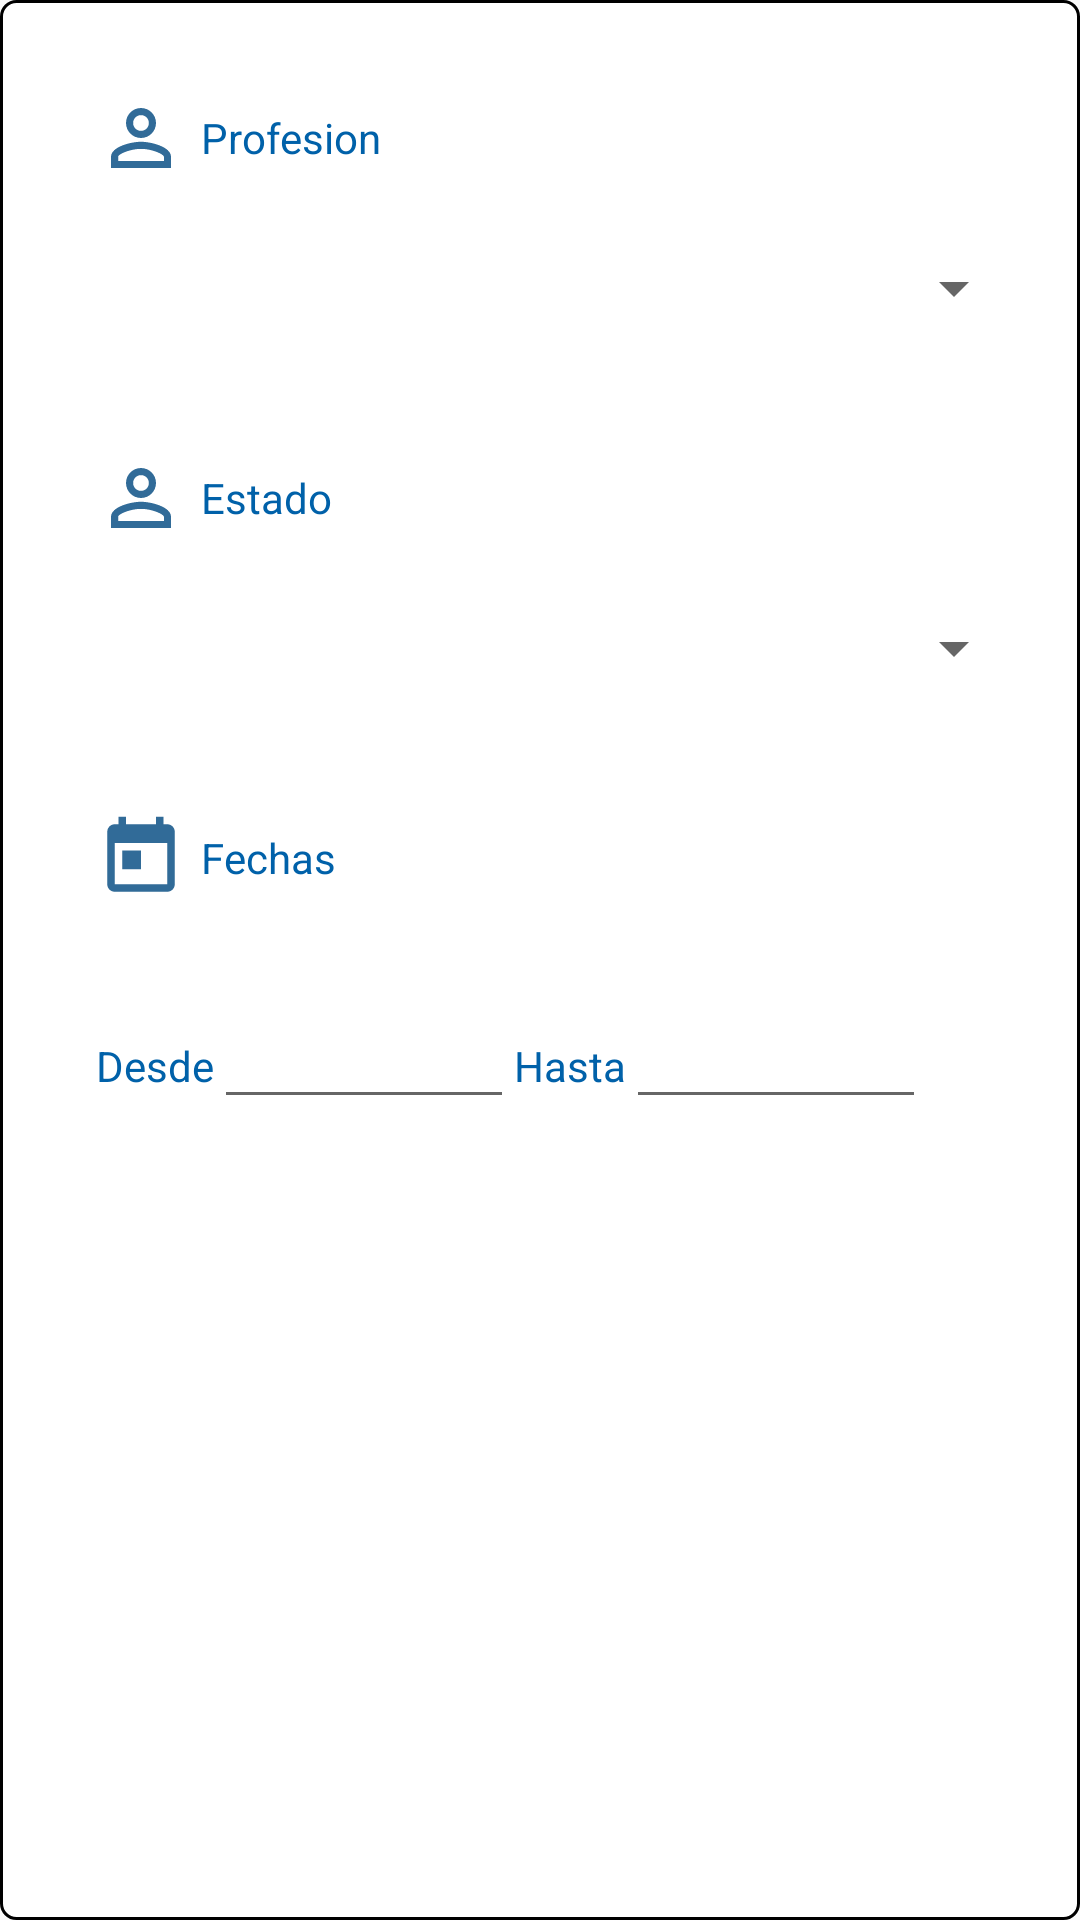

Screen size 1080x1920. Icon name, then its box in pixels as BBox(x1, y1, x2, y2):
date: BBox(107, 816, 175, 892)
user: BBox(111, 108, 171, 168), BBox(111, 468, 171, 528)
